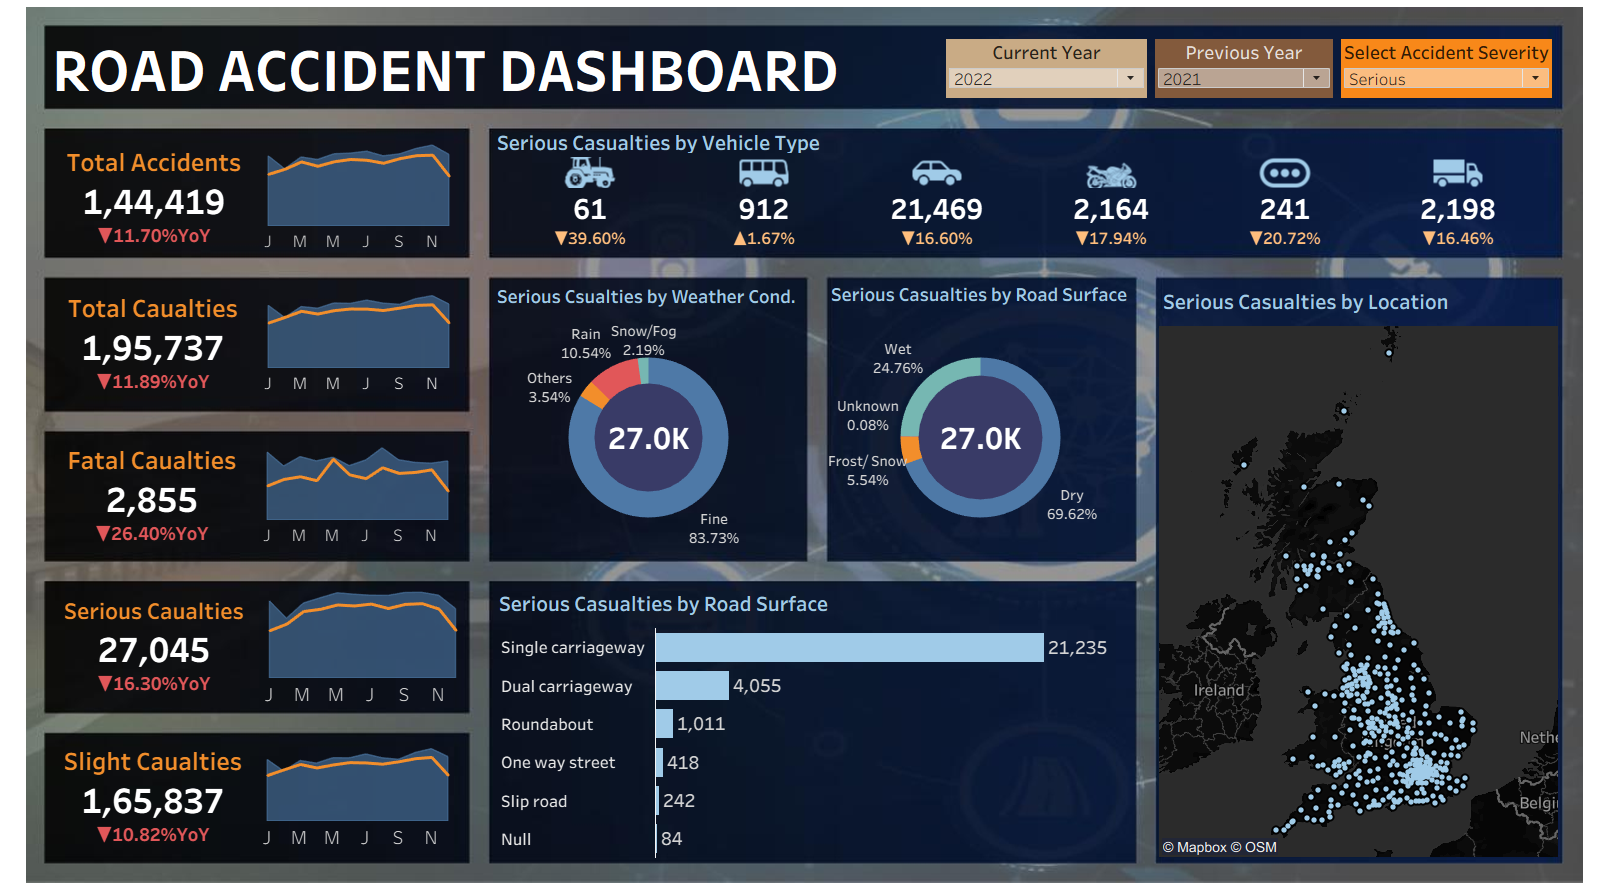

The page's visual inventory and layout, read from the dashboard file:
{"tool":"tableau","page":{"name":"Road Accident Analysis","canvas":[1600,900],"ordinal":0},"visuals":[{"type":"image","param":"Image/Background.jpg","box":[8,8,1584,884]},{"type":"text","box":[43,37,797,73]},{"type":"parameter","param":"[Parameters].[Parameter 1]","box":[937,40,209,67]},{"type":"parameter","param":"[Parameters].[Current Year (copy)_1253408105196728323]","box":[1146,40,186,67]},{"type":"parameter","param":"[Parameters].[Parameter 2]","box":[1332,40,219,67]},{"type":"text","box":[488,137,446,21]},{"type":"worksheet","title":"Total Accidents","mark":"Automatic","box":[46,142,205,120]},{"type":"worksheet","title":"Accident Sparkline","mark":"Automatic","rows":["CY Accidents (copy)_1253408105197760517","Calculation_1253408105197178884"],"cols":["Accident Date"],"box":[251,142,205,120]},{"type":"worksheet","title":"Vehicle Type Image","mark":"Shape","box":[494,158,1050,35]},{"type":"worksheet","title":"Vehicle Type KPI","mark":"Automatic","box":[494,193,1050,65]},{"type":"worksheet","title":"Road Surface ","mark":"Pie","rows":["Calculation_890586860654936066","Calculation_890586860654989316"],"box":[822,282,307,281]},{"type":"worksheet","title":"Weather Cond.","mark":"Pie","rows":["Calculation_890586860654936066","Calculation_890586860654989316"],"box":[488,284,311,277]},{"type":"worksheet","title":"By Location","mark":"Automatic","rows":["Latitude"],"cols":["Longitude"],"box":[1154,288,399,574]},{"type":"worksheet","title":"Total Casualties","mark":"Automatic","box":[46,293,205,110]},{"type":"worksheet","title":"Casualties Sparkline","mark":"Automatic","rows":["CY Casualties (copy)_1544171756158734337","Calculation_1544171756158132224"],"cols":["Accident Date"],"box":[251,293,205,110]},{"type":"worksheet","title":"Fatal Casualties","mark":"Automatic","box":[45,445,205,110]},{"type":"worksheet","title":"Fatal Sparkline","mark":"Automatic","rows":["CY Fatal Casualties (copy)_1544171756162662404","Calculation_1544171756161933315"],"cols":["Accident Date"],"box":[250,445,205,110]},{"type":"worksheet","title":"Road Type","mark":"Automatic","rows":["Road_Type"],"cols":["Calculation_1544171756158132224"],"box":[490,590,636,273]},{"type":"worksheet","title":"Serious Casualties","mark":"Automatic","box":[45,591,207,120]},{"type":"worksheet","title":"Serious Sparkline","mark":"Automatic","rows":["CY Serious Casualties (copy)_1544171756163596296","CY Fatal Casualties (copy)_1544171756163469319"],"cols":["Accident Date"],"box":[256,593,203,119]},{"type":"worksheet","title":"Slight Casualties","mark":"Automatic","box":[45,746,205,110]},{"type":"worksheet","title":"Slight Sparkline","mark":"Automatic","rows":["CY Slight Casualties (copy)_1544171756165046284","CY Fatal Casualties (copy)_1544171756164882442"],"cols":["Accident Date"],"box":[250,746,205,110]}]}

Visuals, with their boxes in screenshot pixels (x1, y1, x2, y2), scaled from the page's 1600x900 canvas onto the 1611x887 screenshot:
image: bbox(8, 8, 1603, 879)
text: bbox(43, 36, 846, 108)
parameter: bbox(943, 39, 1154, 105)
parameter: bbox(1154, 39, 1341, 105)
parameter: bbox(1341, 39, 1562, 105)
text: bbox(491, 135, 940, 156)
"Total Accidents" worksheet: bbox(46, 140, 253, 258)
"Accident Sparkline" worksheet: bbox(253, 140, 459, 258)
"Vehicle Type Image" worksheet (Shape marks): bbox(497, 156, 1555, 190)
"Vehicle Type KPI" worksheet: bbox(497, 190, 1555, 254)
"Road Surface " worksheet (Pie marks): bbox(828, 278, 1137, 555)
"Weather Cond." worksheet (Pie marks): bbox(491, 280, 804, 553)
"By Location" worksheet: bbox(1162, 284, 1564, 850)
"Total Casualties" worksheet: bbox(46, 289, 253, 397)
"Casualties Sparkline" worksheet: bbox(253, 289, 459, 397)
"Fatal Casualties" worksheet: bbox(45, 439, 252, 547)
"Fatal Sparkline" worksheet: bbox(252, 439, 458, 547)
"Road Type" worksheet: bbox(493, 581, 1134, 851)
"Serious Casualties" worksheet: bbox(45, 582, 254, 701)
"Serious Sparkline" worksheet: bbox(258, 584, 462, 702)
"Slight Casualties" worksheet: bbox(45, 735, 252, 844)
"Slight Sparkline" worksheet: bbox(252, 735, 458, 844)
